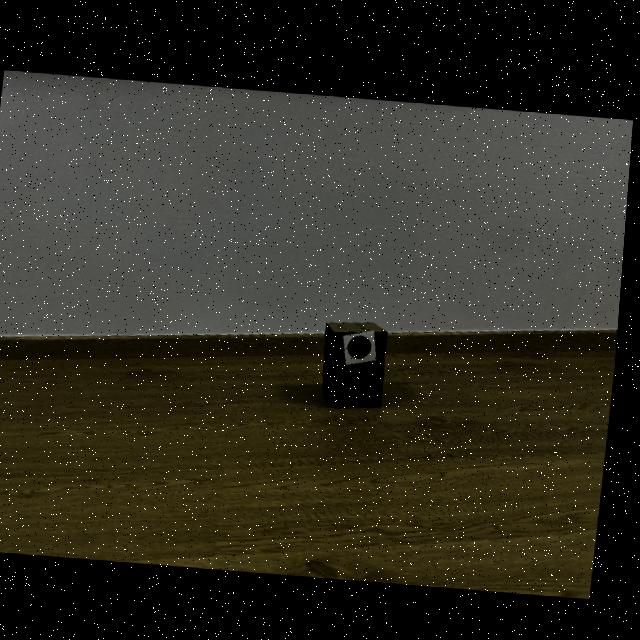CIRCLE: (353, 332, 376, 355)
